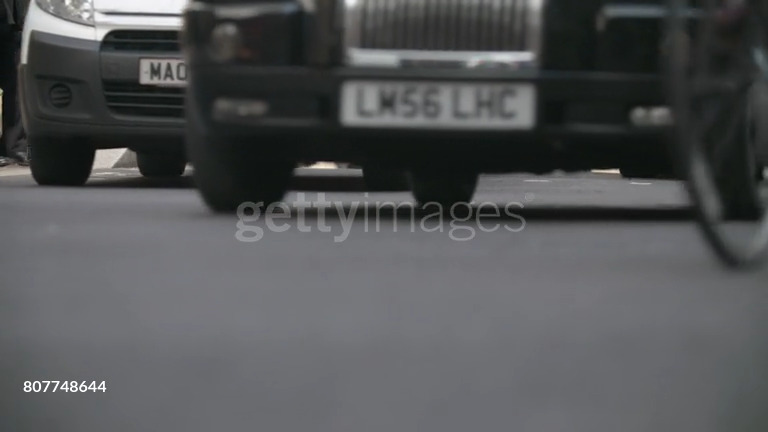car number: (340, 78, 533, 126), (136, 57, 188, 84)
